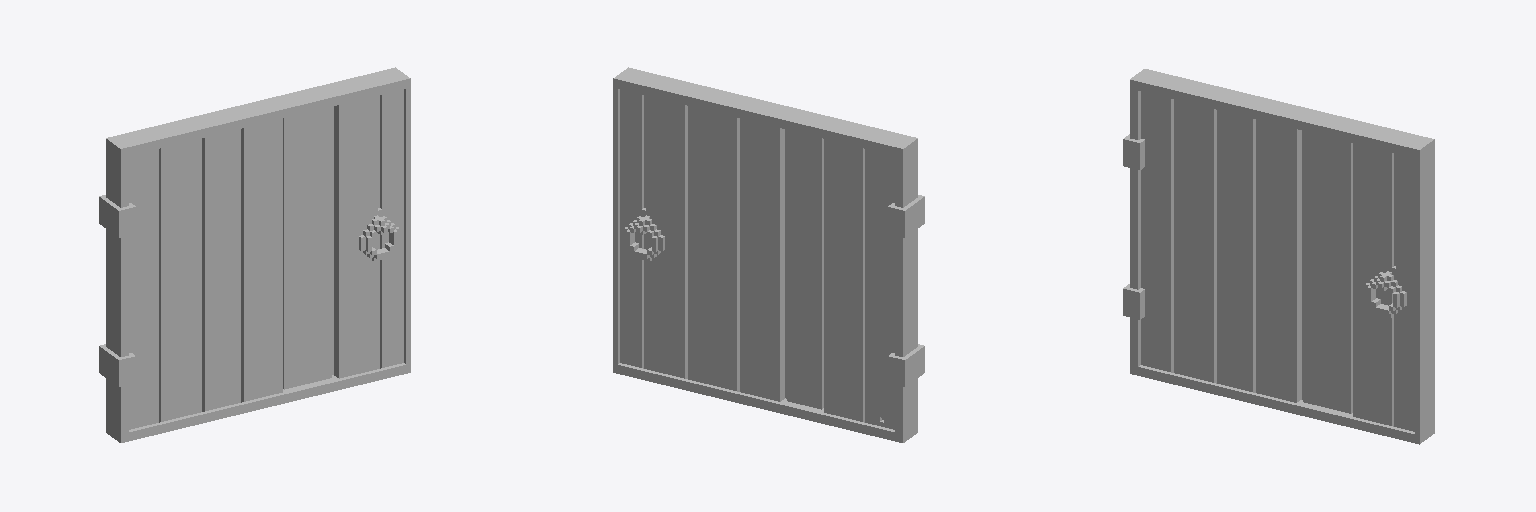
Rendered from Door.obj.
The picture shows the model from 3 angles: view 1: azimuth 30°, elevation 25°; view 2: azimuth 150°, elevation 25°; view 3: azimuth 330°, elevation 25°; orthographic projection.
Bounding box in the file's own units: 68 × 65 × 12.